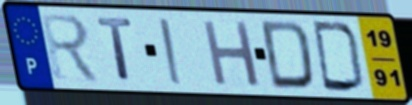D: (309, 19, 367, 95), (258, 19, 317, 92)
H: (200, 18, 263, 89)
I: (156, 16, 186, 87)
R: (37, 11, 103, 85)
T: (94, 15, 137, 84)
